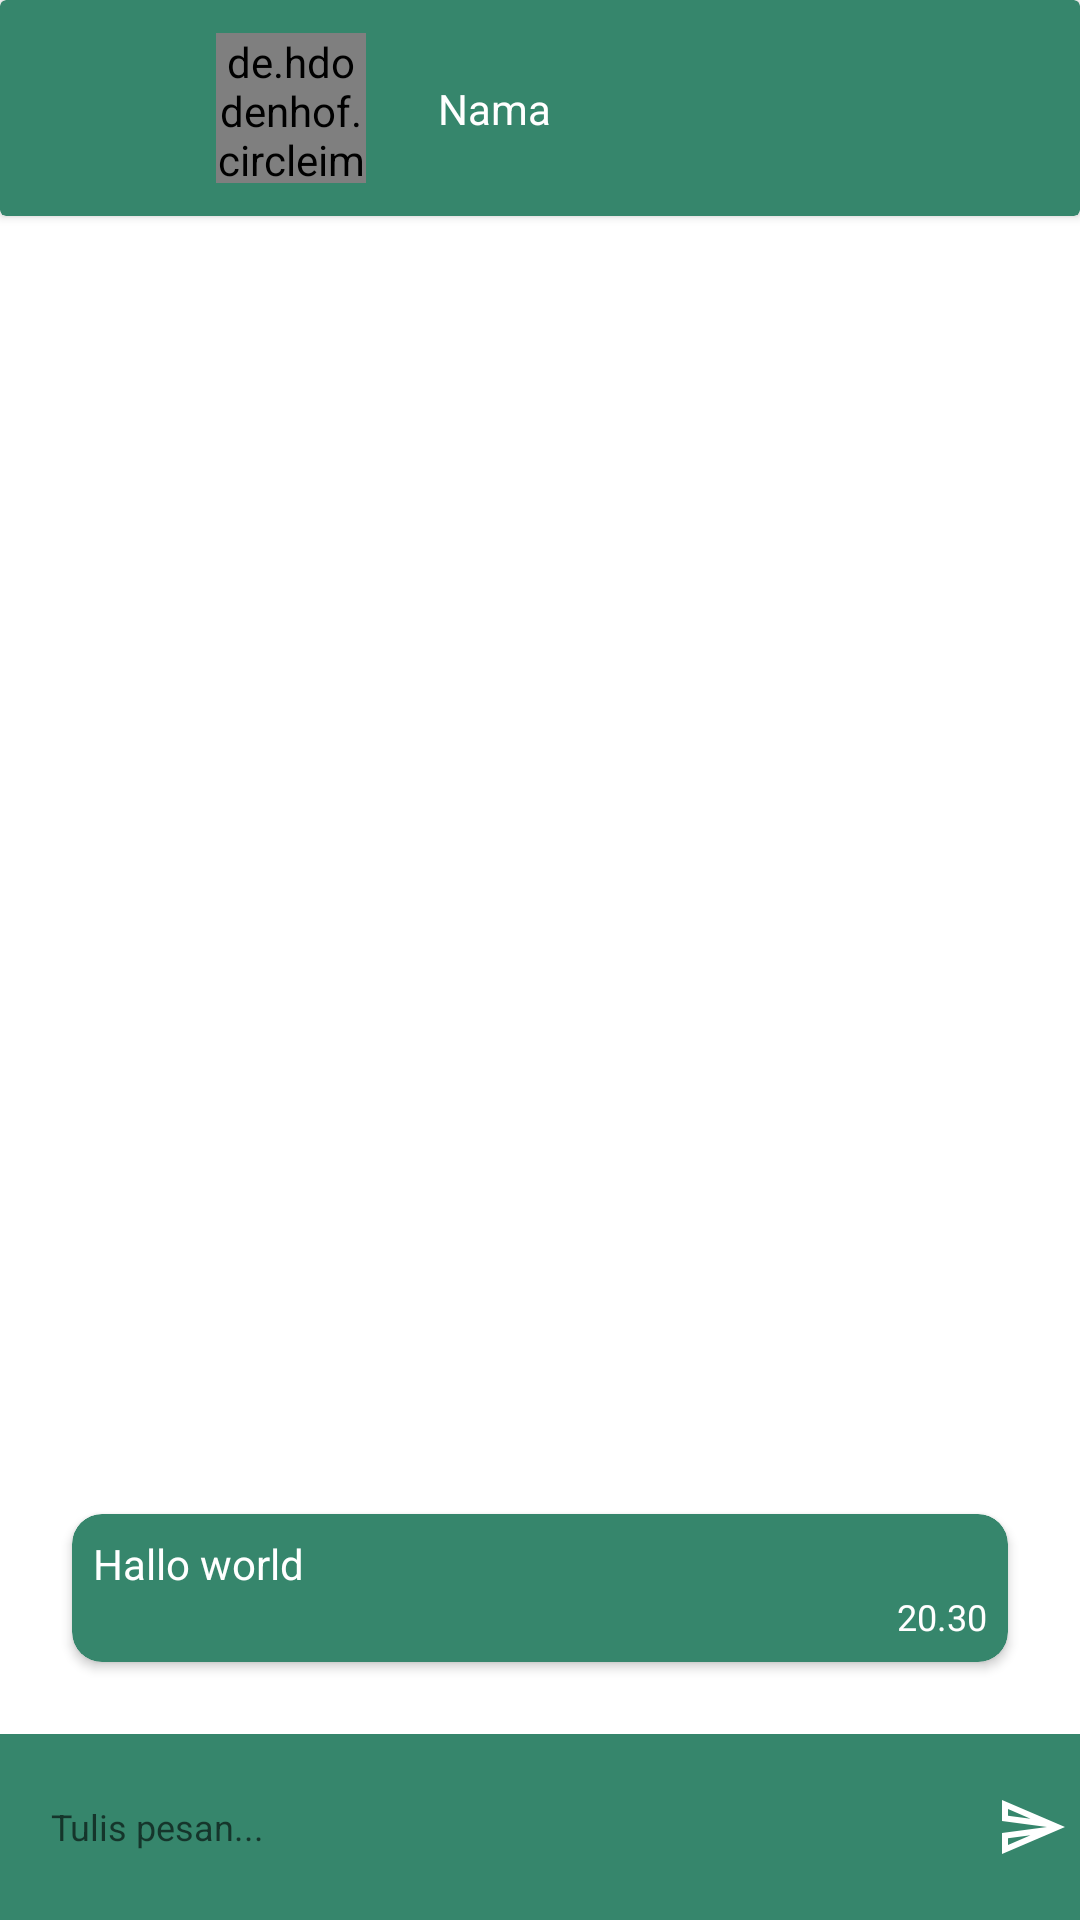

Icons on this 1080*1920 Android screen, each with its box as {"left": x1, "top": y1, "right": x2, "bottom": y2}:
send: {"left": 1002, "top": 1800, "right": 1065, "bottom": 1854}
